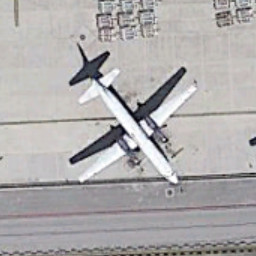Airplane: (62, 55, 201, 203)
